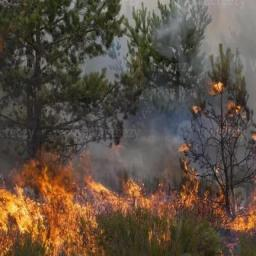Low smoke: (56, 0, 255, 196)
Medium fire: (0, 146, 256, 256)
